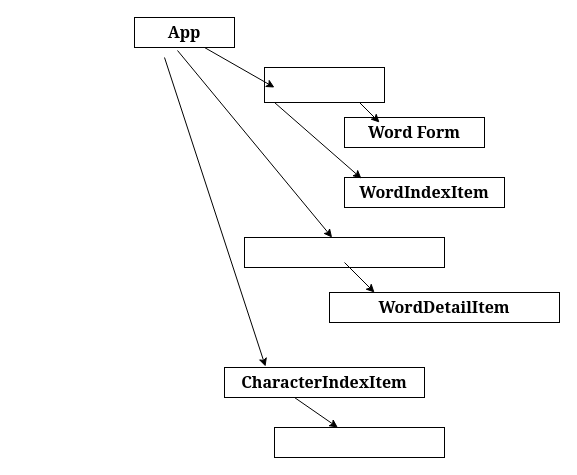
The diagram is 577 pixels wide and 475 high, and some of its shapes have lost their labels. The centre of each missing label's shape, as x and y in pixels:
"CharacterIndex" belongs at point 359,442.
"WordDetailIndex" belongs at point 344,252.
"WordsIndex" belongs at point 324,84.
